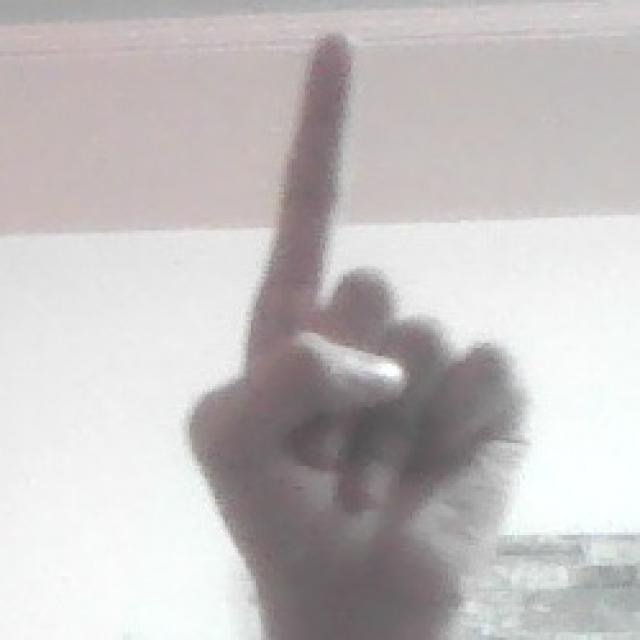Numeric-1: (189, 29, 522, 602)
